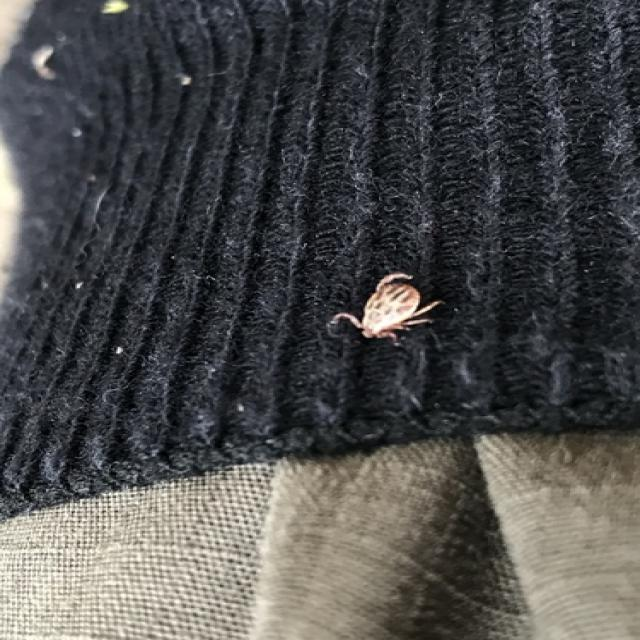Dermacentor Reticulatus-M: (331, 270, 447, 340)
